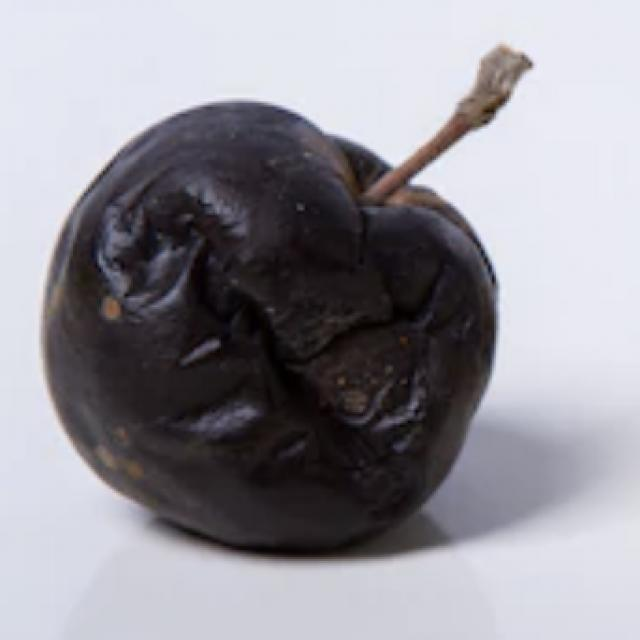Rotten: (37, 96, 498, 552)
